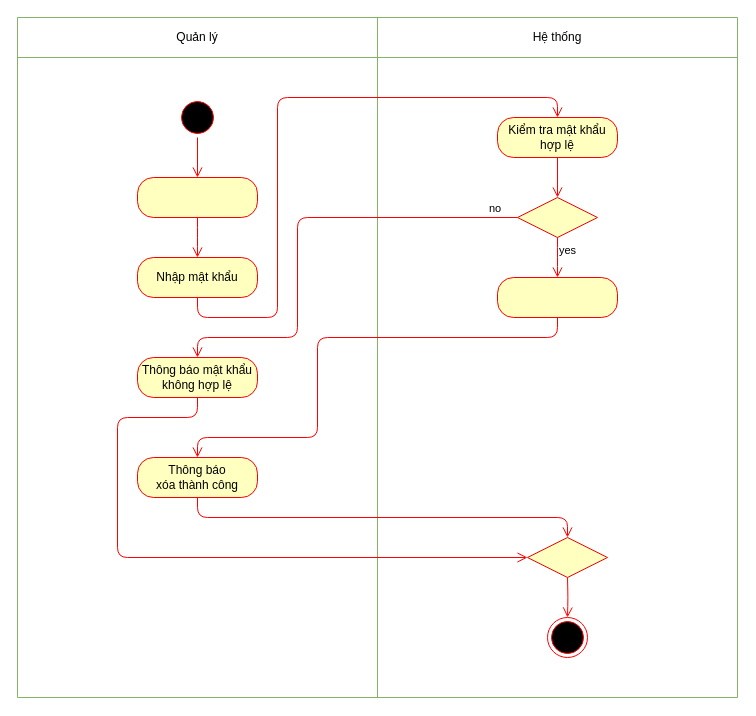
The diagram is 756 pixels wide and 716 high, and some of its shapes have lost their labels. Each missing label, with the centre of its shape:
Chọn admin muốn xóa: point 197,197
Xóa admin: point 557,297
